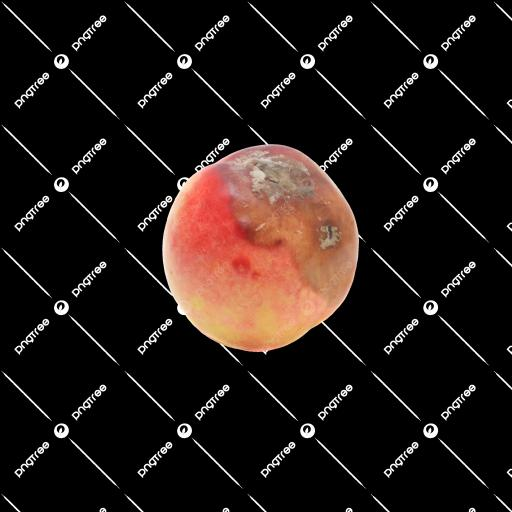Qua Hong: (66, 64, 439, 435)
